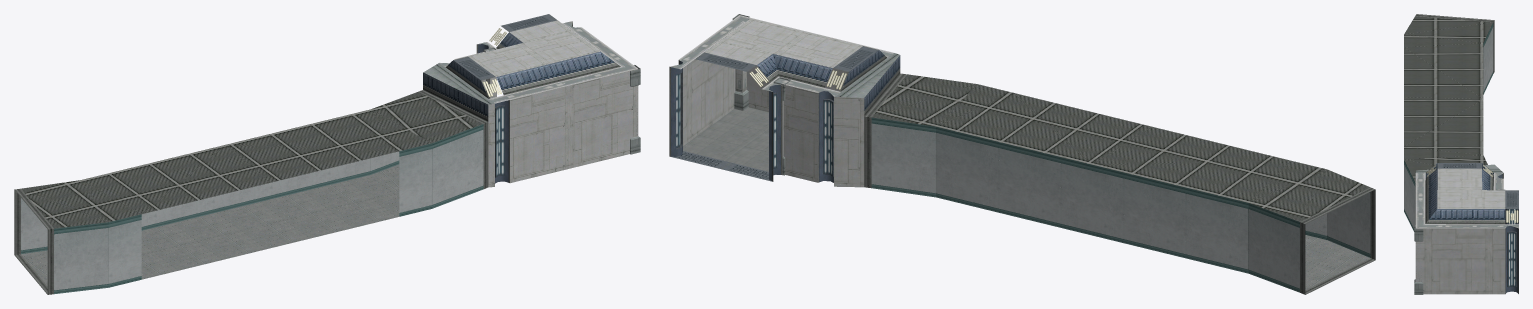
File: mun_nboo_cloning_s01_r1_foyer_mesh_r1.fbx
3 views of the same model, side by side, from view 1: azimuth 30°, elevation 25°; view 2: azimuth 150°, elevation 25°; view 3: azimuth 270°, elevation 25° (orthographic). The views are drawn at different scales.
Parts seen in each view (by area): view 1: mesh_node; view 2: mesh_node; view 3: mesh_node.
Part boxes in pixels (box(x1,y1,x2,y2)): mesh_node: box(14, 14, 640, 294); mesh_node: box(669, 14, 1375, 294); mesh_node: box(1404, 14, 1518, 294).
Bounding box in the file's own units: 27.57 × 4.28 × 5.86.
